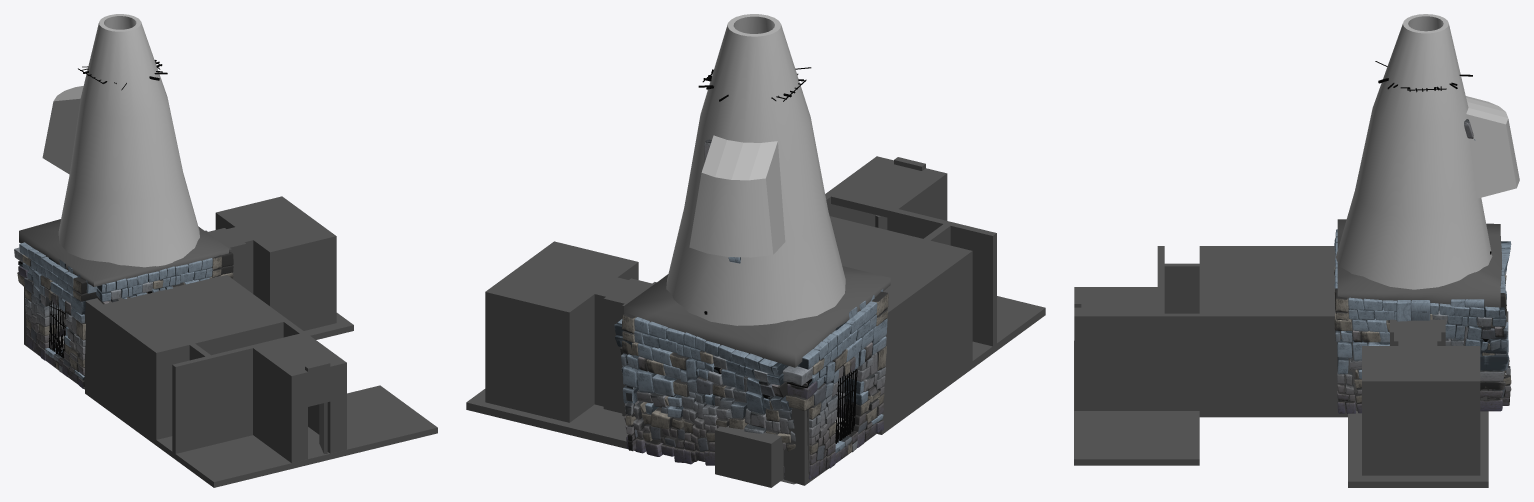
The model's file is unreal_house_001.fbx.
3 renders of one model, left to right at view 1: azimuth 30°, elevation 25°; view 2: azimuth 150°, elevation 25°; view 3: azimuth 270°, elevation 25°, orthographic. The views are drawn at different scales.
Visible parts, largest first — view 1: Blockout_Box56, geo_chimneyOuterMesh_01, pasted__polySurface145, Geo_Chinmey_meshCeiling_01; view 2: Blockout_Box56, geo_chimneyOuterMesh_01, pasted__polySurface145, Geo_Chinmey_meshCeiling_01; view 3: Blockout_Box56, geo_chimneyOuterMesh_01, pasted__polySurface145, Geo_Chinmey_meshCeiling_01, Geo_ceilingBrick_01.
Part boxes in pixels (x1,y1,x2,y2): Blockout_Box56: (24, 196, 437, 487); geo_chimneyOuterMesh_01: (42, 14, 199, 267); pasted__polySurface145: (14, 242, 233, 388); Geo_Chinmey_meshCeiling_01: (19, 219, 228, 286); Blockout_Box56: (466, 156, 1045, 487); geo_chimneyOuterMesh_01: (666, 14, 845, 325); pasted__polySurface145: (614, 291, 888, 484); Geo_Chinmey_meshCeiling_01: (624, 266, 890, 367); Blockout_Box56: (1074, 246, 1508, 487); geo_chimneyOuterMesh_01: (1335, 14, 1519, 289); pasted__polySurface145: (1334, 229, 1511, 413); Geo_Chinmey_meshCeiling_01: (1337, 219, 1501, 307); Geo_ceilingBrick_01: (1396, 299, 1484, 321).
Size of the model in its own units: 2445 by 2928 by 3203.
